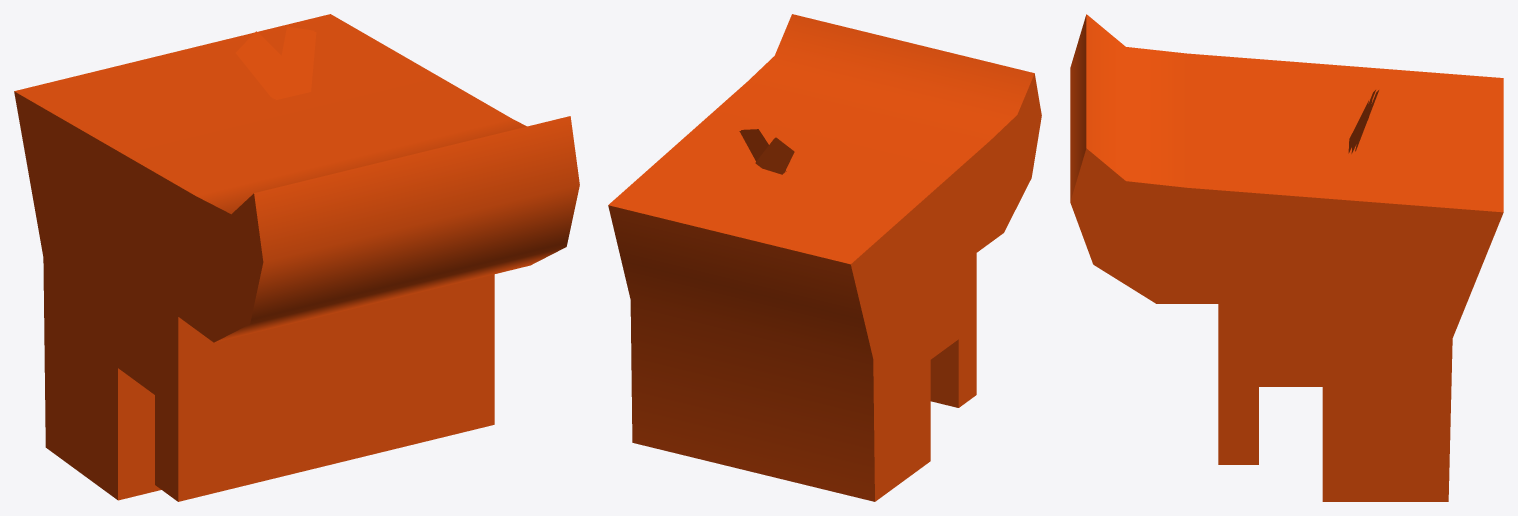
The model's file is Hair Male 01.FBX.
3 renders of one model, left to right at view 1: azimuth 30°, elevation 25°; view 2: azimuth 150°, elevation 25°; view 3: azimuth 270°, elevation 25°, orthographic. The views are drawn at different scales.
Parts seen in each view (by area): view 1: Hair Male 01; view 2: Hair Male 01; view 3: Hair Male 01.
Part boxes in pixels (x1,y1,x2,y2): Hair Male 01: (14,14,579,501); Hair Male 01: (608,14,1041,501); Hair Male 01: (1070,14,1503,501).
Bounding box in the file's own units: 52.44 × 64.41 × 71.53.
1 material, 1 textured.
